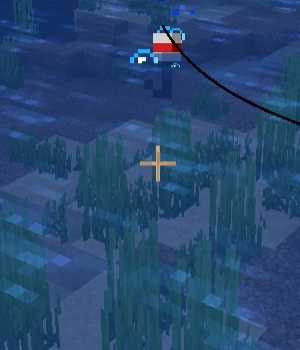up: (142, 23, 186, 101)
